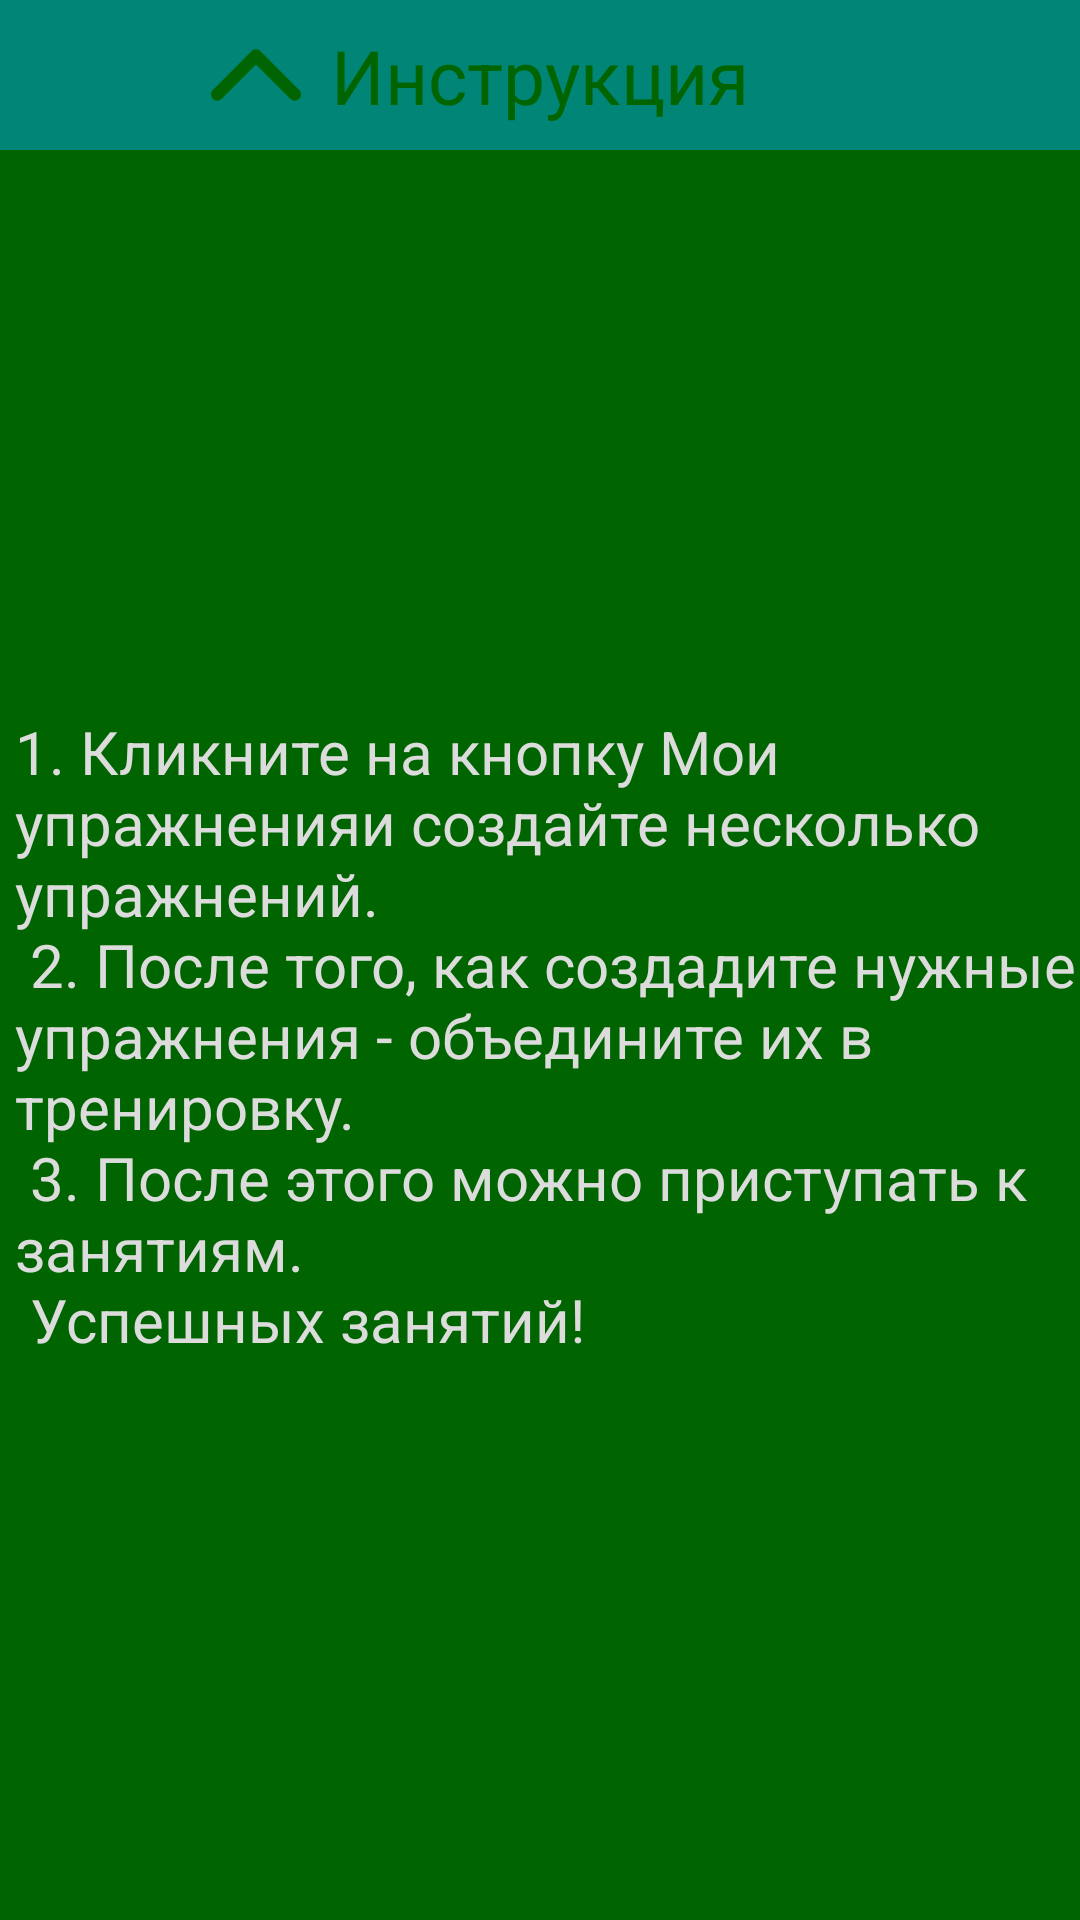

Icon bounding boxes for this 1080px×1920px phone screenshot, format region(x1, y1, x2, y2):
arrow up: region(211, 49, 301, 101)
